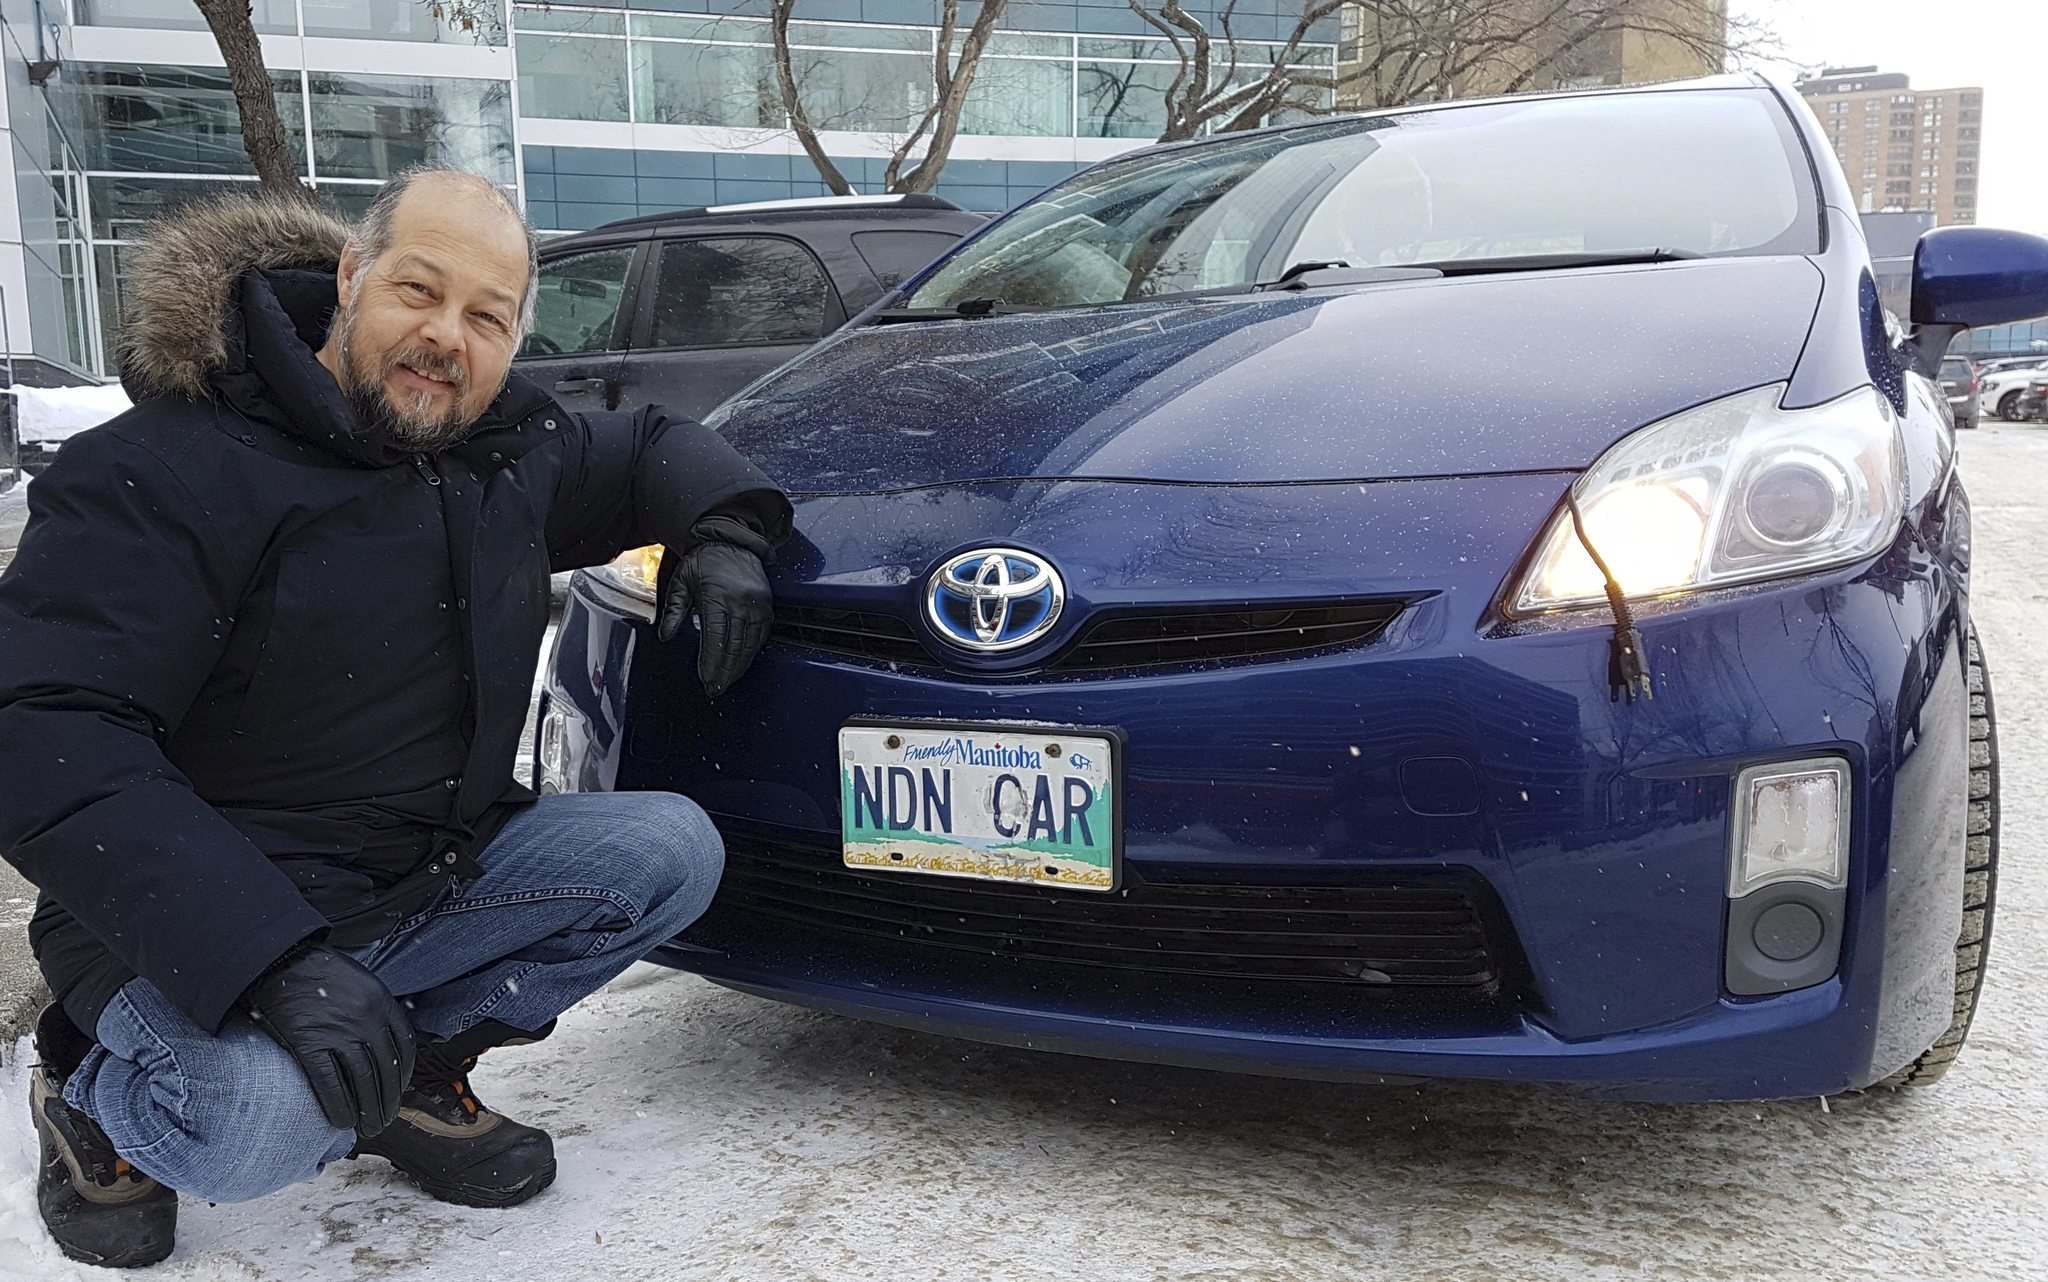number_plate: (827, 704, 1142, 910)
